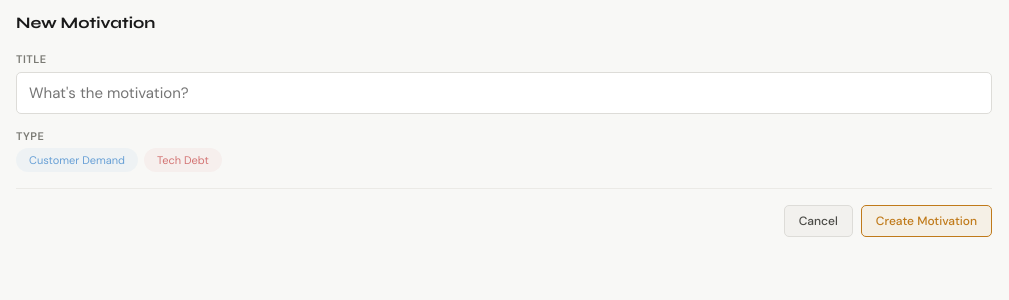
Test case: MotivationForm › requires title and type
Click the button "Create Motivation" at [926, 221], box x1=861 y1=205 x2=992 y2=237
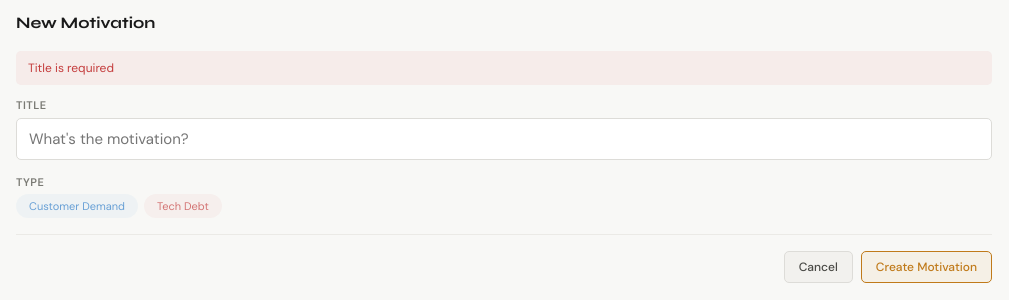
Expected: the text with class "form-error" reads "Title is required", x1=28 y1=60 x2=114 y2=76
Type "Test" into the field with placeholder "What's the motivation?" at [504, 138], box x1=16 y1=118 x2=992 y2=160
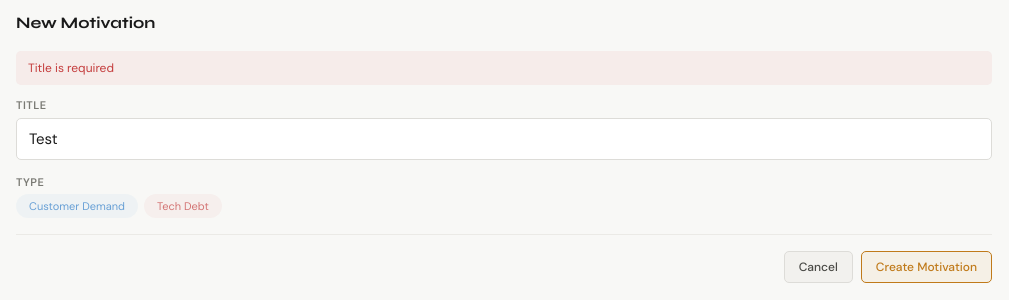
Click the button "Create Motivation" at [926, 267], box x1=861 y1=251 x2=992 y2=283
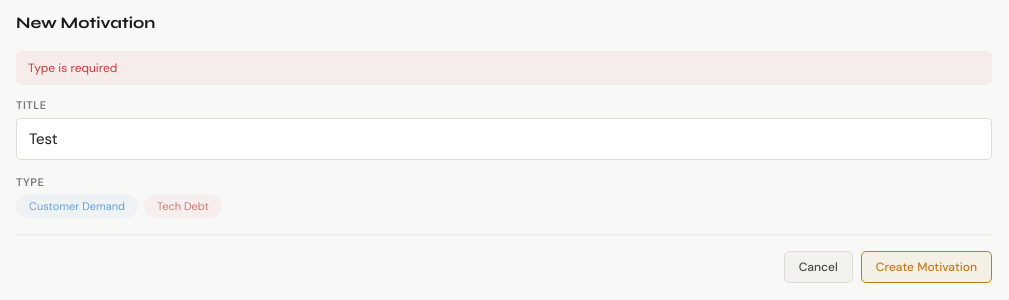
Expected: the text with class "form-error" reads "Type is required", x1=28 y1=60 x2=117 y2=76
